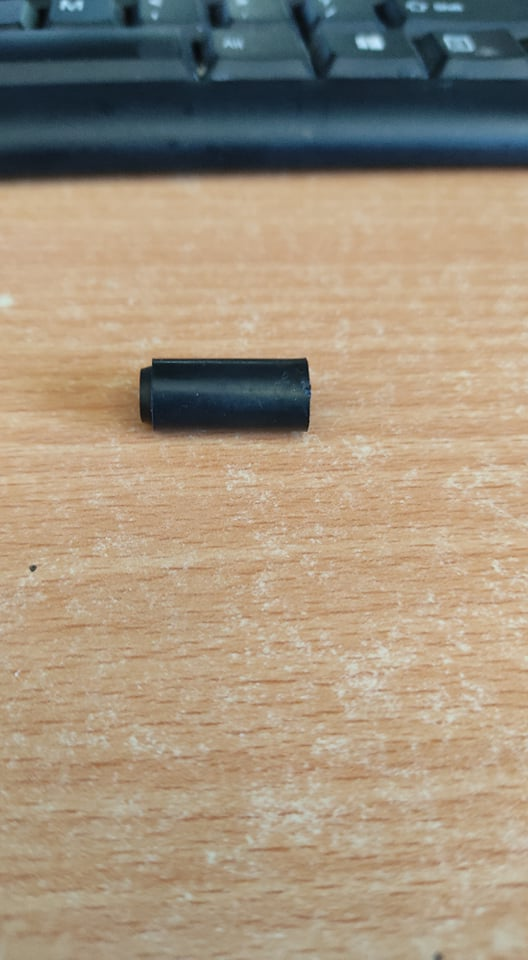black_bucking: (98, 332, 349, 454)
